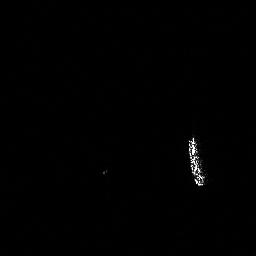ship: (183, 134, 211, 189)
